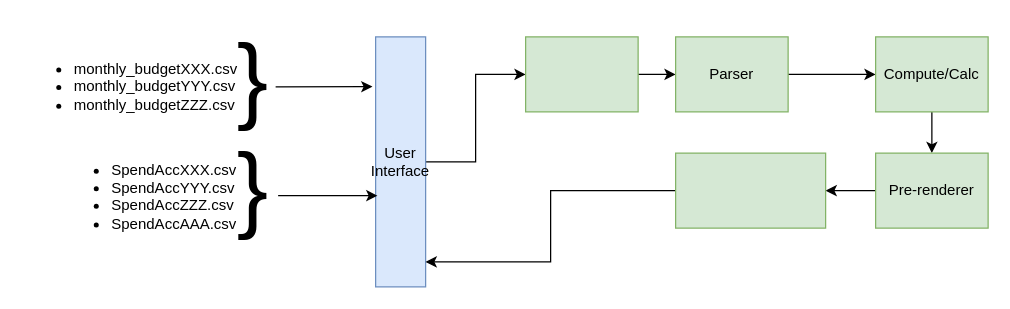
Some shapes in this 1010 by 309 pixel diagram are drawn without their labels. Here are the shapes that lost their labels. From the top down, the box of each, then its label:
(524, 36, 638, 112): File Reader
(674, 152, 826, 228): Renderer
